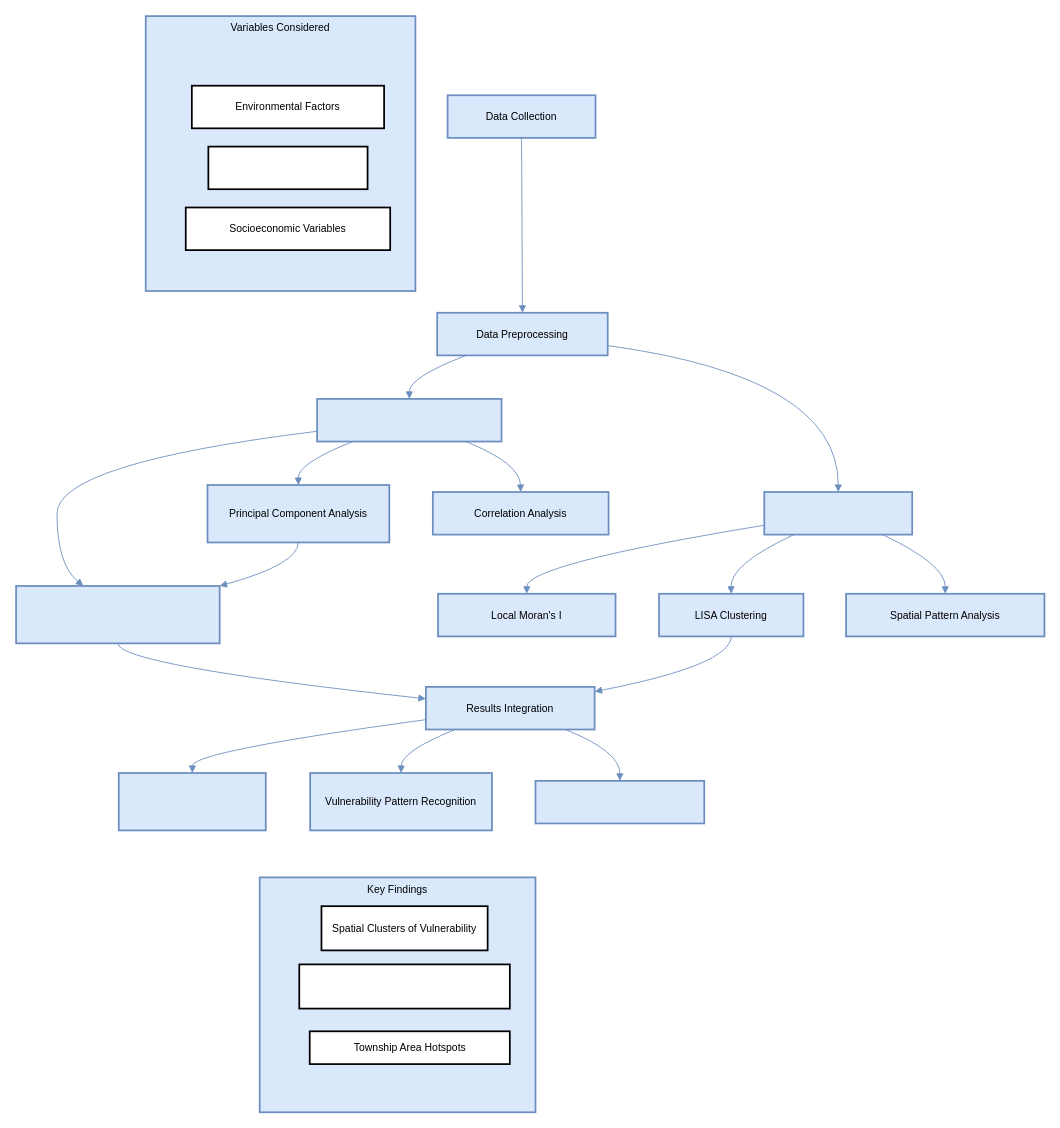
Some shapes in this 1060 by 1128 pixel diagram are drawn without their labels. Here are the shapes that lost their labels. From the top down, the centre of each, then its label:
At (287,167): "Health Indicators".
At (409,420): "Vulnerability Analysis".
At (838,513): "Spatial Analysis".
At (117,614): "Heat Vulnerability Index Creation".
At (191,801): "High-Risk Areas Identification".
At (619,802): "Policy Implications".
At (404,986): "North-South Vulnerability Divide".
